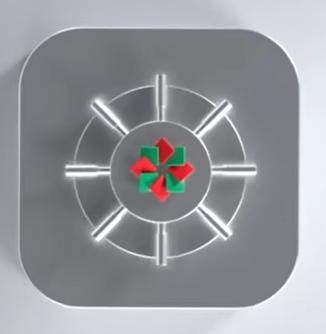Pasha Bank: (127, 134, 197, 204)
